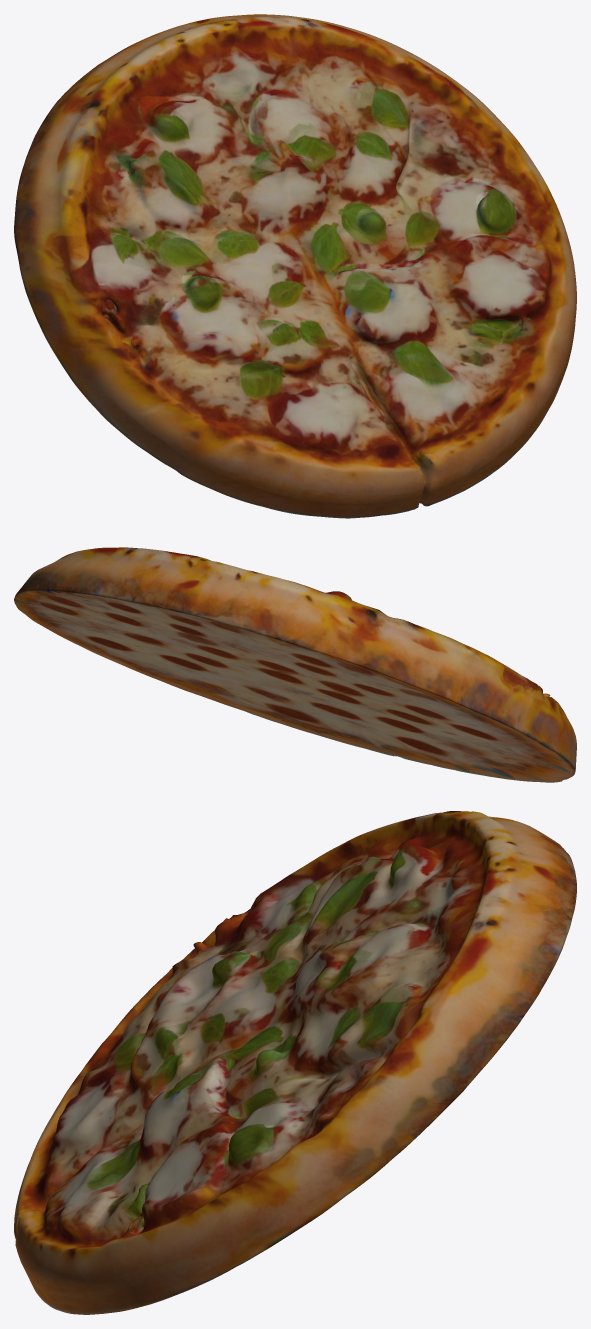
File: Pizza_1115164510_refine.glb
The picture shows the model from 3 angles, top to bottom: view 1: azimuth 30°, elevation 25°; view 2: azimuth 150°, elevation 25°; view 3: azimuth 270°, elevation 25°; orthographic projection. The views are drawn at different scales.
Visible parts, largest first — view 1: file1; view 2: file1; view 3: file1.
Part boxes in pixels (left/top/right/bottom): file1: left=14, top=14, right=576, bottom=518; file1: left=14, top=547, right=576, bottom=782; file1: left=14, top=811, right=576, bottom=1314.
Bounding box in the file's own units: 2 × 1.27 × 1.59.
1 material, 1 textured.
